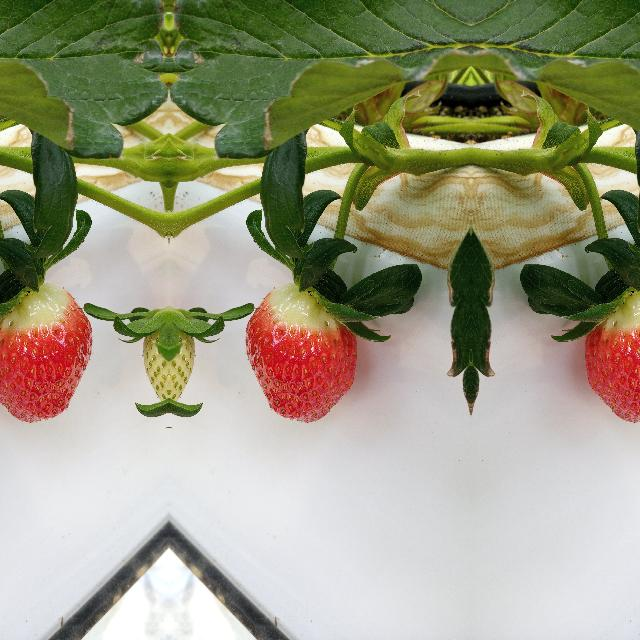Health_100: (243, 282, 357, 423), (0, 282, 93, 423), (584, 282, 640, 423)
